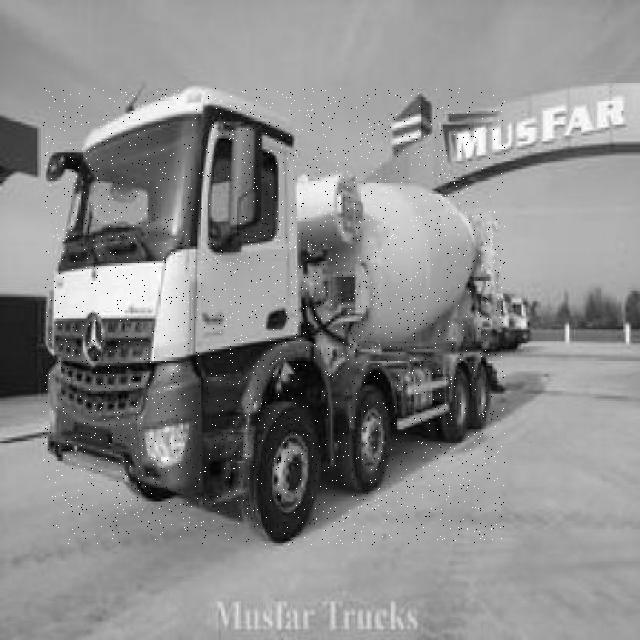Concrete Mixer: (43, 88, 505, 545)
